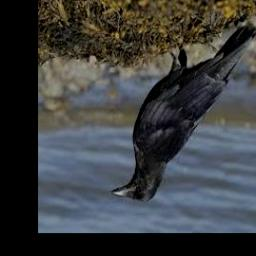Crow: (112, 25, 256, 203)
